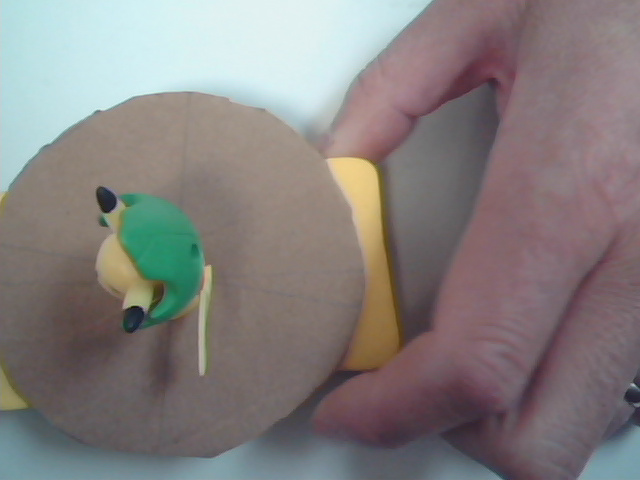pikachu: (44, 124, 297, 377)
